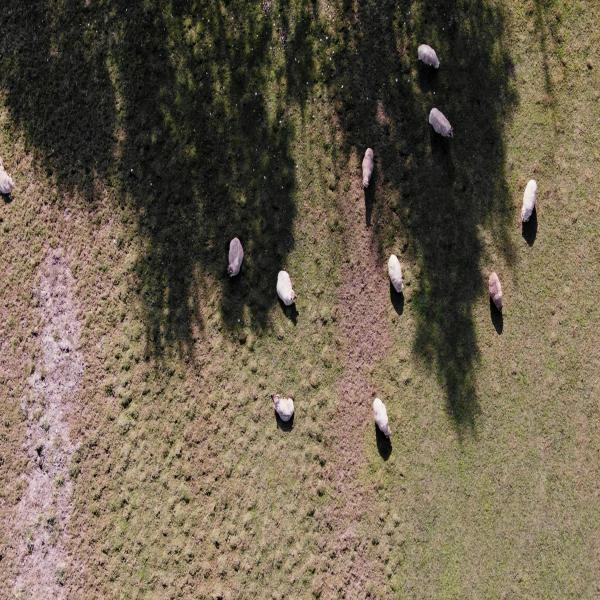sheep: (368, 392, 397, 446), (413, 30, 443, 76), (225, 230, 249, 283), (359, 137, 381, 193), (519, 171, 542, 224), (277, 262, 300, 312), (427, 104, 455, 140), (387, 247, 409, 291), (487, 267, 508, 313), (271, 390, 294, 428), (0, 151, 13, 203)
